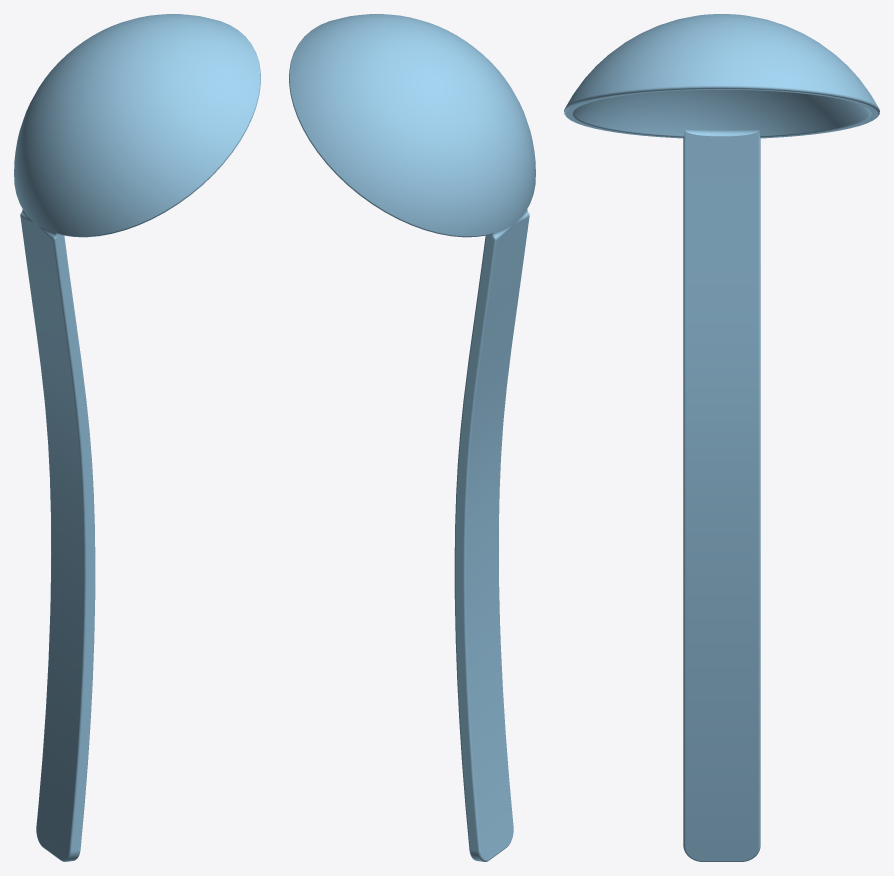
Rendered from tool.obj.
The picture shows the model from 3 angles, left to right: view 1: azimuth 30°, elevation 25°; view 2: azimuth 150°, elevation 25°; view 3: azimuth 270°, elevation 25°; orthographic projection. The views are drawn at different scales.
Parts seen in each view (by area): view 1: mesh29; view 2: mesh29; view 3: mesh29.
Boxes of the visible parts, <box> form: mesh29: <box>14,14,260,861</box>; mesh29: <box>289,14,535,861</box>; mesh29: <box>564,14,879,861</box>.
Size of the model in its own units: 0.0544 by 0.2036 by 0.0653.
